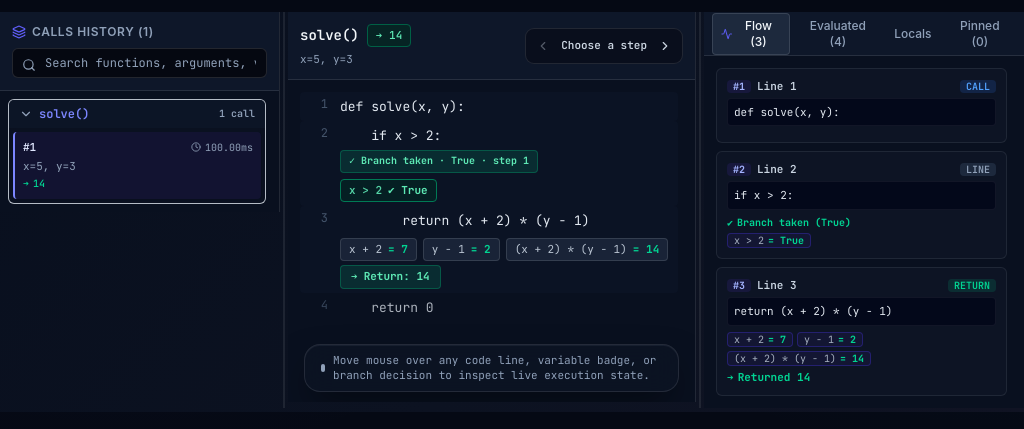
Test: BirdseyePage Component › steps through captured events and highlights the matching source line
The width and height of the screenshot is (1024, 429).
Click the button named "next execution step": point(665, 46) [651,32,679,60]
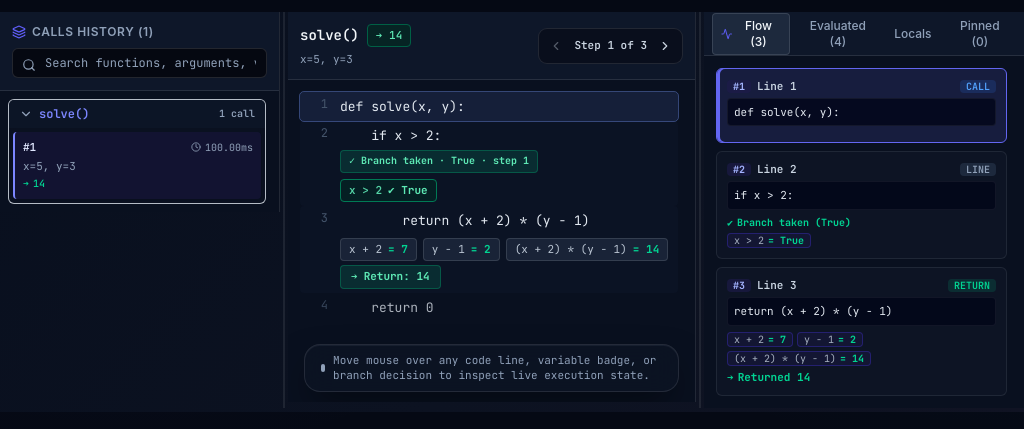
Expected: the text "Step 1 of 3" is shown, [574,39,647,52]
Click the button "Line 2": point(862, 205) [716,151,1007,259]
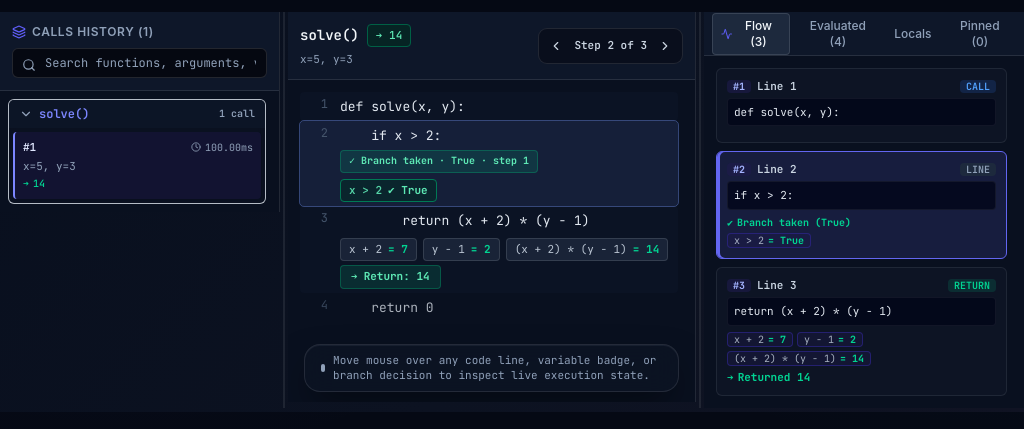
Expected: the text "Step 2 of 3" is shown, [574,39,647,52]
Expected: the element with class "expression-active-line" is shown, [300,121,678,206]
